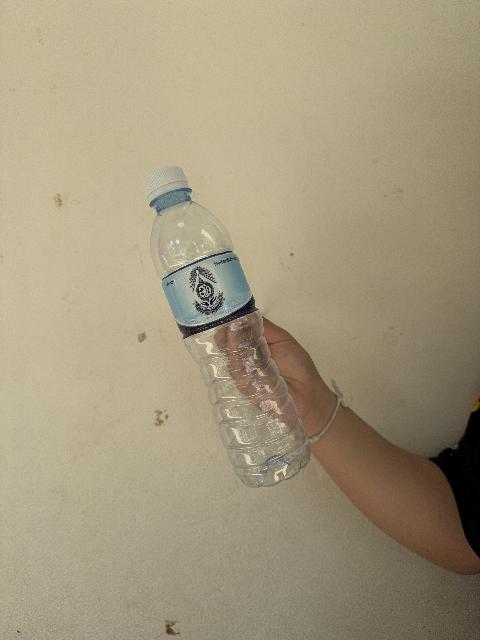bottle: (144, 167, 310, 487)
